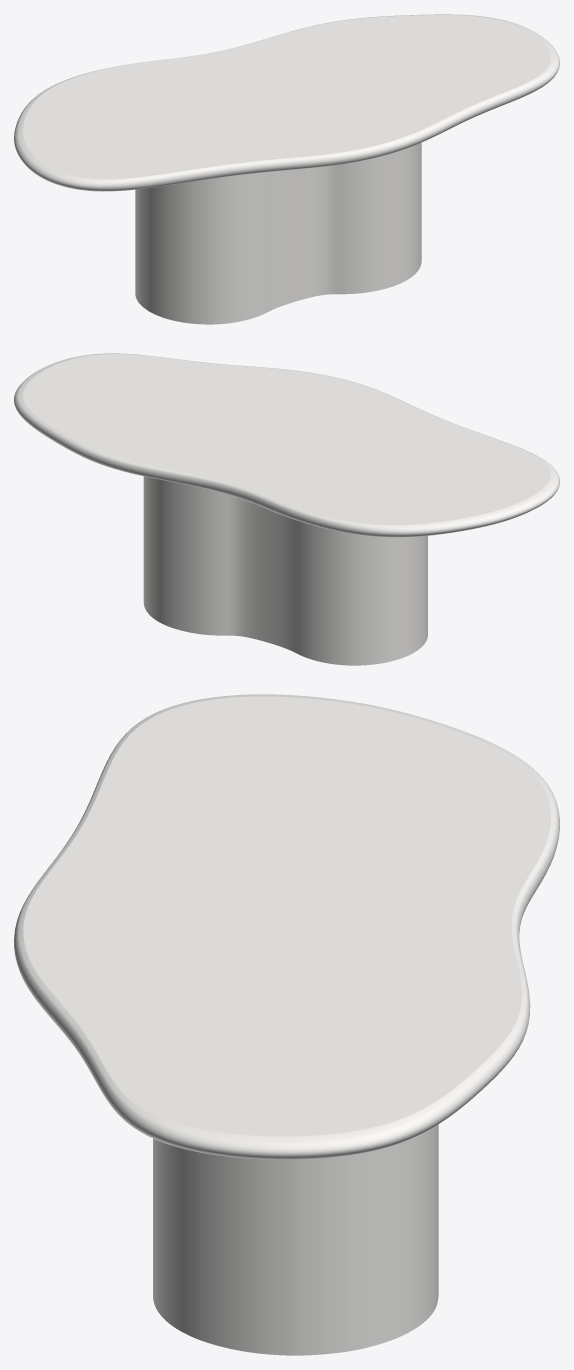
Rendered from purewhite_toplast_round_riverwave.glb.
3 renders of one model, top to bottom at view 1: azimuth 30°, elevation 25°; view 2: azimuth 150°, elevation 25°; view 3: azimuth 270°, elevation 25°, orthographic. The views are drawn at different scales.
Parts seen in each view (by area): view 1: round_toplast, riverwave; view 2: round_toplast, riverwave; view 3: round_toplast, riverwave.
Part boxes in pixels (left/top/right/bottom): round_toplast: left=14, top=14, right=559, bottom=191; riverwave: left=135, top=142, right=421, bottom=324; round_toplast: left=14, top=353, right=559, bottom=537; riverwave: left=143, top=476, right=427, bottom=665; round_toplast: left=14, top=694, right=559, bottom=1159; riverwave: left=153, top=1124, right=438, bottom=1355.
Size of the model in its own units: 7.5 by 2.5 by 3.8.
1 material, 1 textured.
